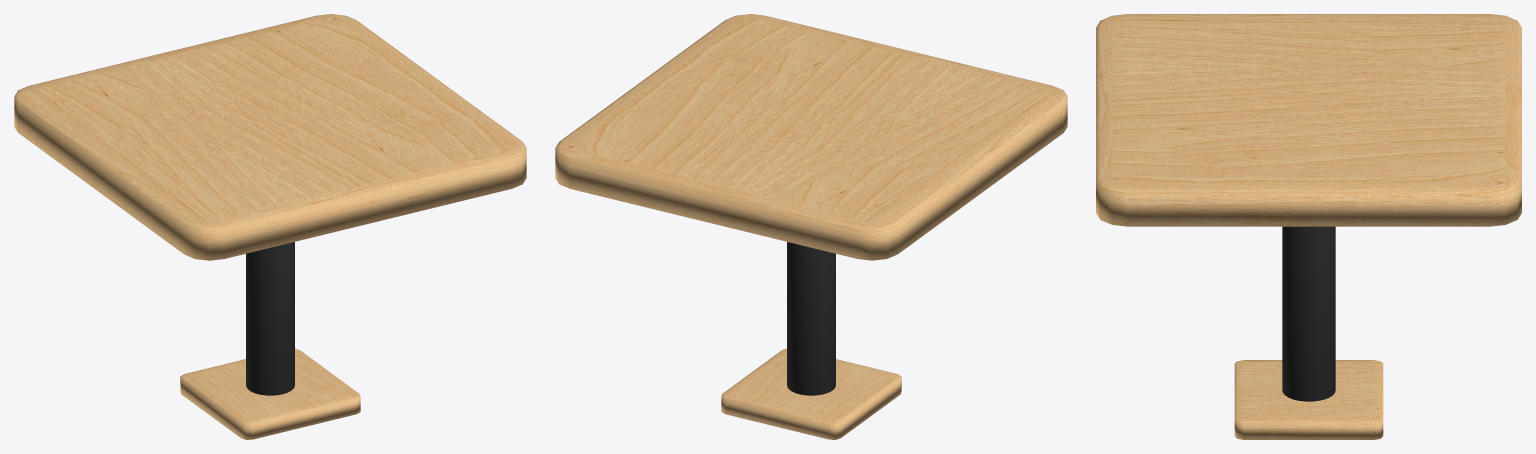
The model's file is cafe_table1.fbx.
3 renders of one model, left to right at view 1: azimuth 30°, elevation 25°; view 2: azimuth 150°, elevation 25°; view 3: azimuth 270°, elevation 25°, orthographic. The views are drawn at different scales.
Parts seen in each view (by area): view 1: Tabletop, Tabletop.001, Cylinder; view 2: Tabletop, Tabletop.001, Cylinder; view 3: Tabletop, Tabletop.001, Cylinder.
Part boxes in pixels (x1,y1,x2,y2): Tabletop: (14,14,526,260); Tabletop.001: (180,348,360,439); Cylinder: (246,242,294,395); Tabletop: (555,14,1067,260); Tabletop.001: (721,348,901,439); Cylinder: (787,242,835,395); Tabletop: (1096,14,1521,226); Tabletop.001: (1234,360,1383,439); Cylinder: (1282,226,1335,401).
Bounding box in the file's own units: 200 × 160 × 200.
